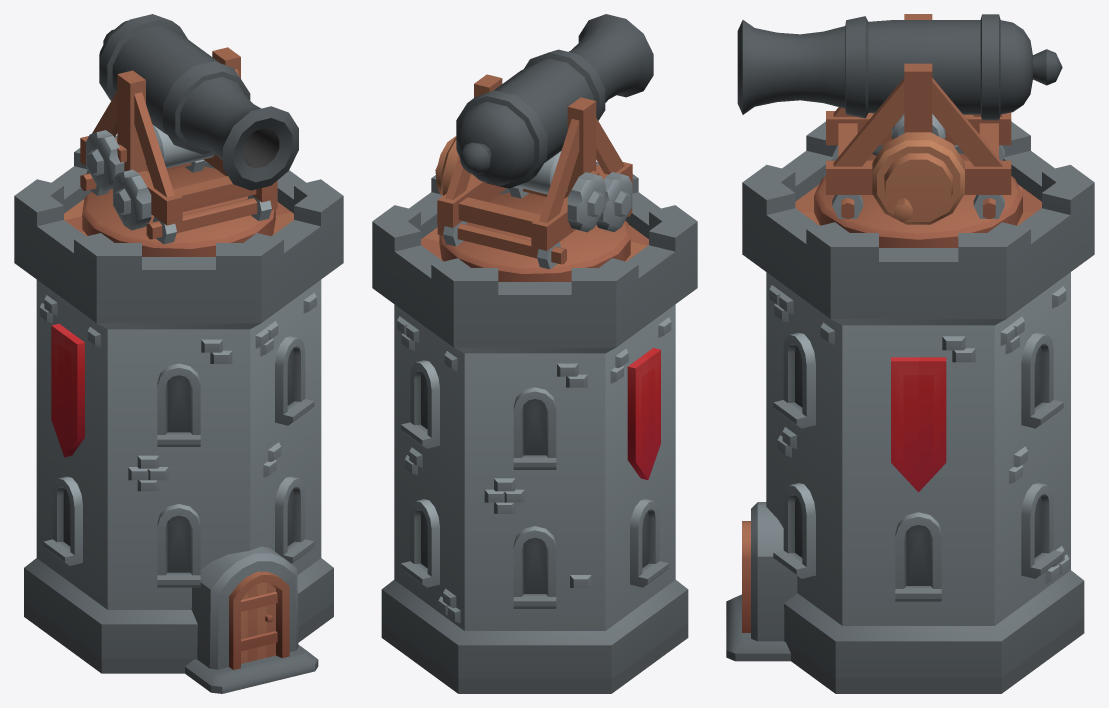
The model's file is tower_cannon.glb.
3 renders of one model, left to right at view 1: azimuth 30°, elevation 25°; view 2: azimuth 150°, elevation 25°; view 3: azimuth 270°, elevation 25°, orthographic. The views are drawn at different scales.
Visible parts, largest first — view 1: tower_cannon; view 2: tower_cannon; view 3: tower_cannon.
Boxes of the visible parts, x1,y1,x2,y2 form: tower_cannon: (14,14,343,693); tower_cannon: (372,14,697,693); tower_cannon: (726,14,1094,693).
Bounding box in the file's own units: 0.4649 × 1.02 × 0.5556.
1 material, 1 textured.
